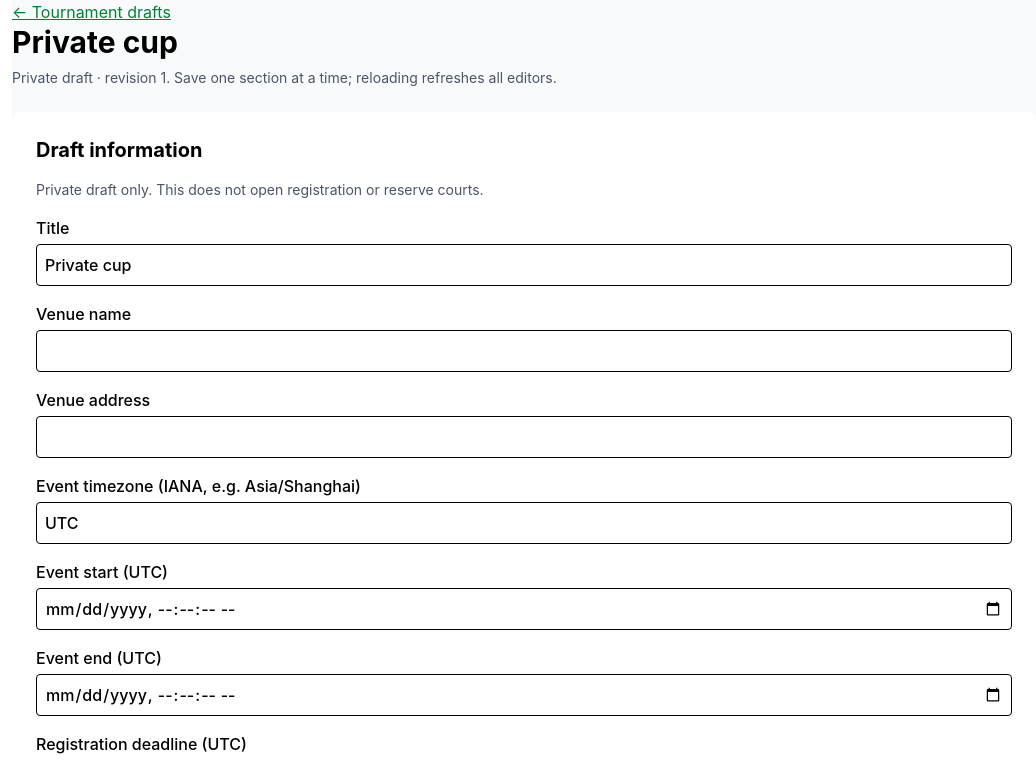
Test: recovers a stale edit only after explicit reload and does not blindly retry
Step 1. Replace the text in the field labelled "Title" with "Unsaved version" → (524, 265), box [36,244,1012,286]
(page scrolled)
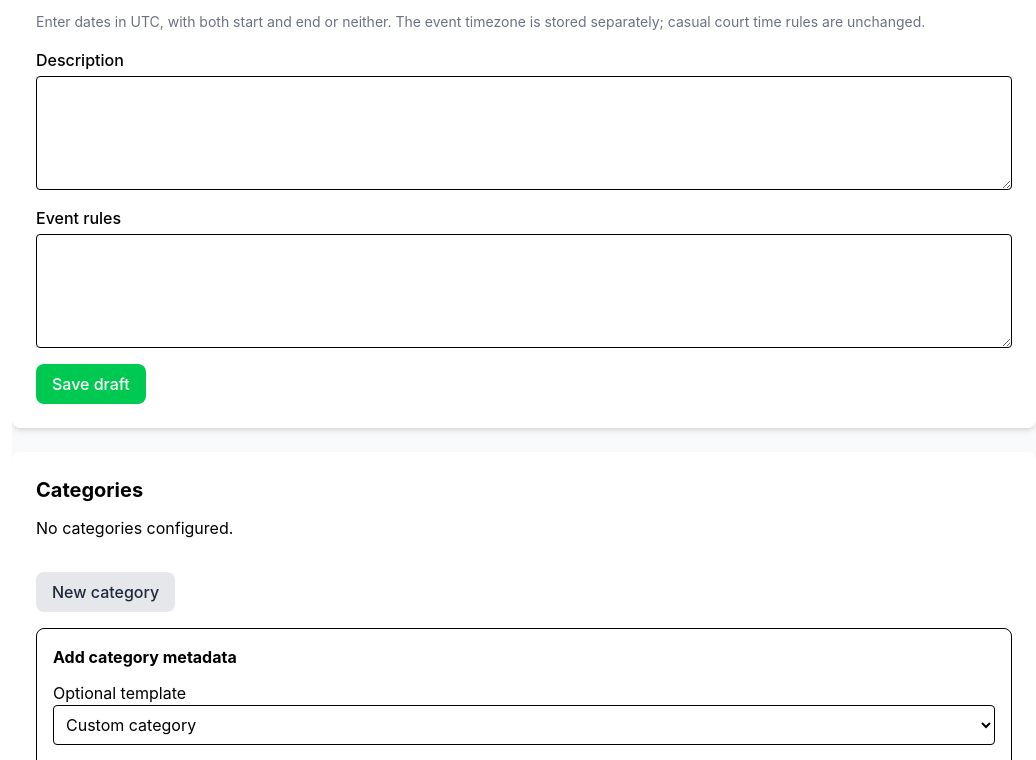
Step 2. Click the button "Save draft" → click(91, 384), box [36,364,146,404]
(page scrolled)
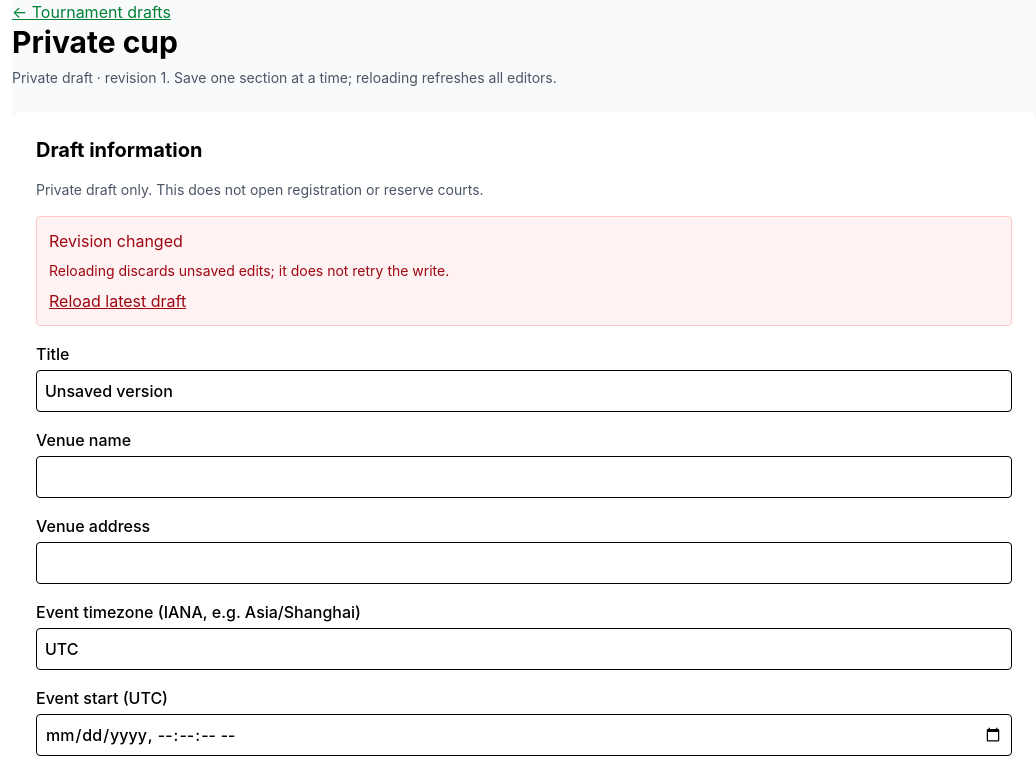
Expected: the text "Revision changed" is shown, [49,231,183,251]
Step 3. Click the button "Reload latest draft" → click(118, 301), box [49,289,186,313]
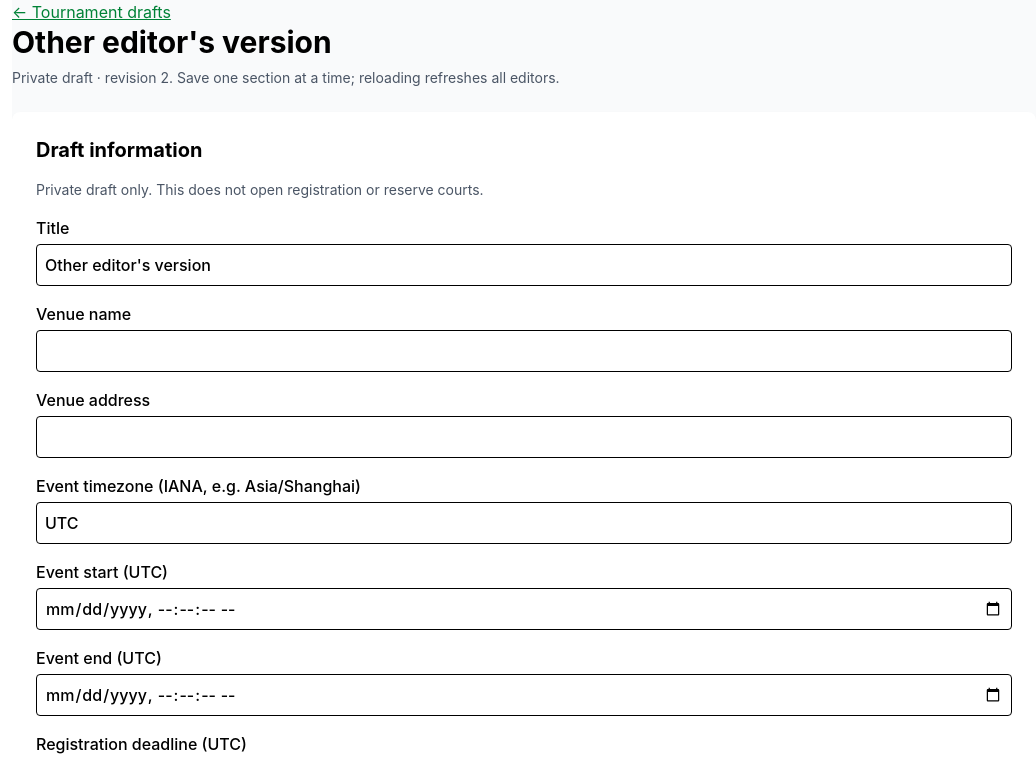
Expected: the field labelled "Title" holds "Other editor's version", [36,244,1012,286]
